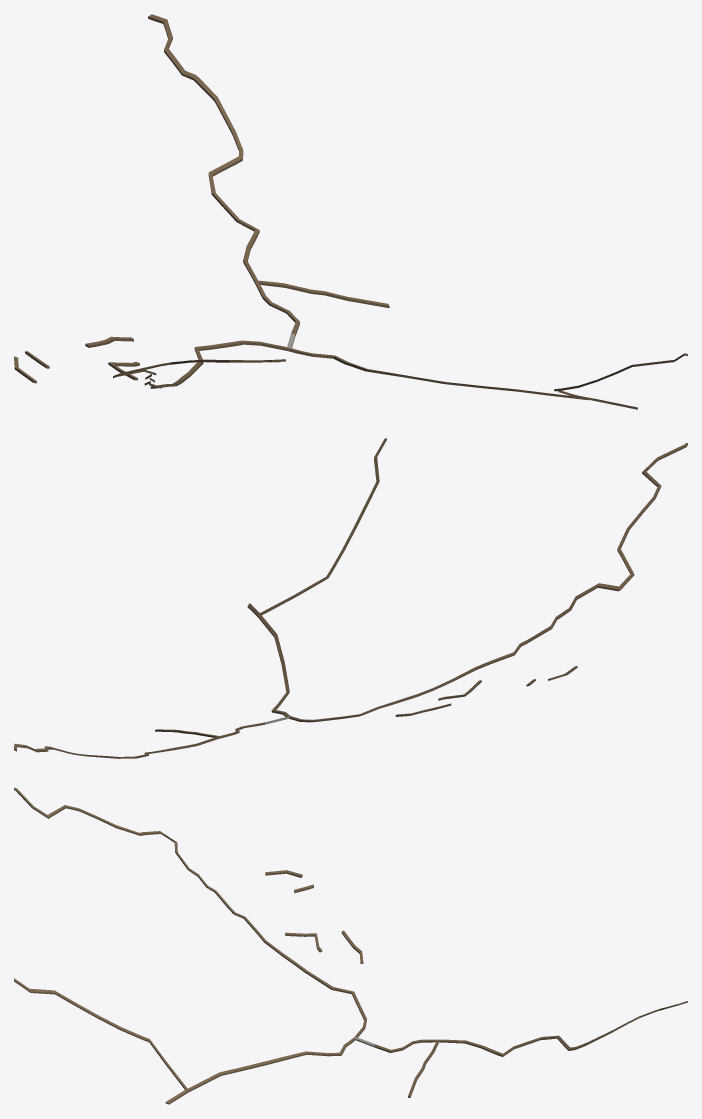
File: 17-109455-59483.fee5dd4b.glb
The picture shows the model from 3 angles, top to bottom: view 1: azimuth 30°, elevation 25°; view 2: azimuth 150°, elevation 25°; view 3: azimuth 270°, elevation 25°; orthographic projection. The views are drawn at different scales.
Size of the model in its own units: 171 by 84.7 by 292.
